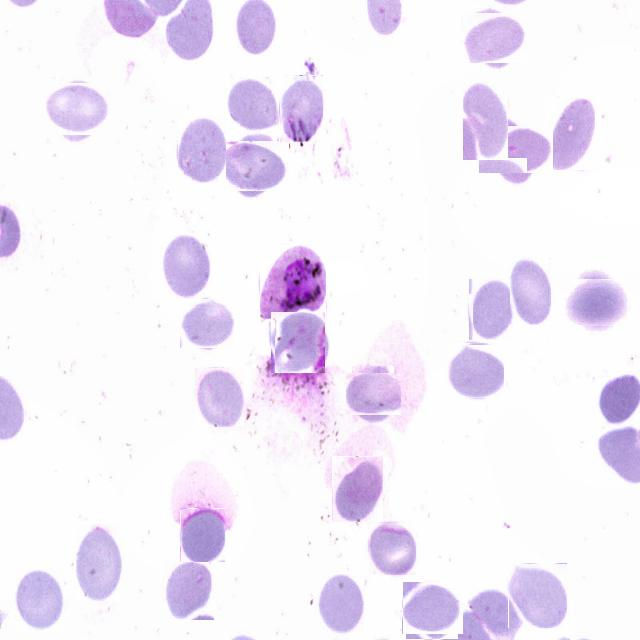red blood cell: (508, 563, 567, 628), (485, 119, 547, 179), (544, 98, 595, 170), (224, 136, 284, 196), (463, 80, 508, 160), (76, 525, 122, 601), (162, 231, 212, 300), (15, 567, 66, 634), (466, 9, 524, 67), (48, 80, 106, 138), (569, 273, 627, 331), (269, 313, 327, 371), (178, 114, 226, 184), (332, 457, 383, 522), (404, 580, 461, 637), (164, 558, 214, 620), (448, 344, 503, 400), (316, 574, 364, 638), (279, 75, 323, 142), (195, 368, 244, 427), (509, 258, 551, 325), (468, 278, 513, 340), (226, 77, 278, 130), (181, 297, 233, 349), (368, 522, 416, 575), (348, 369, 398, 418), (180, 508, 225, 562)
trophozoite: (260, 245, 326, 319)
